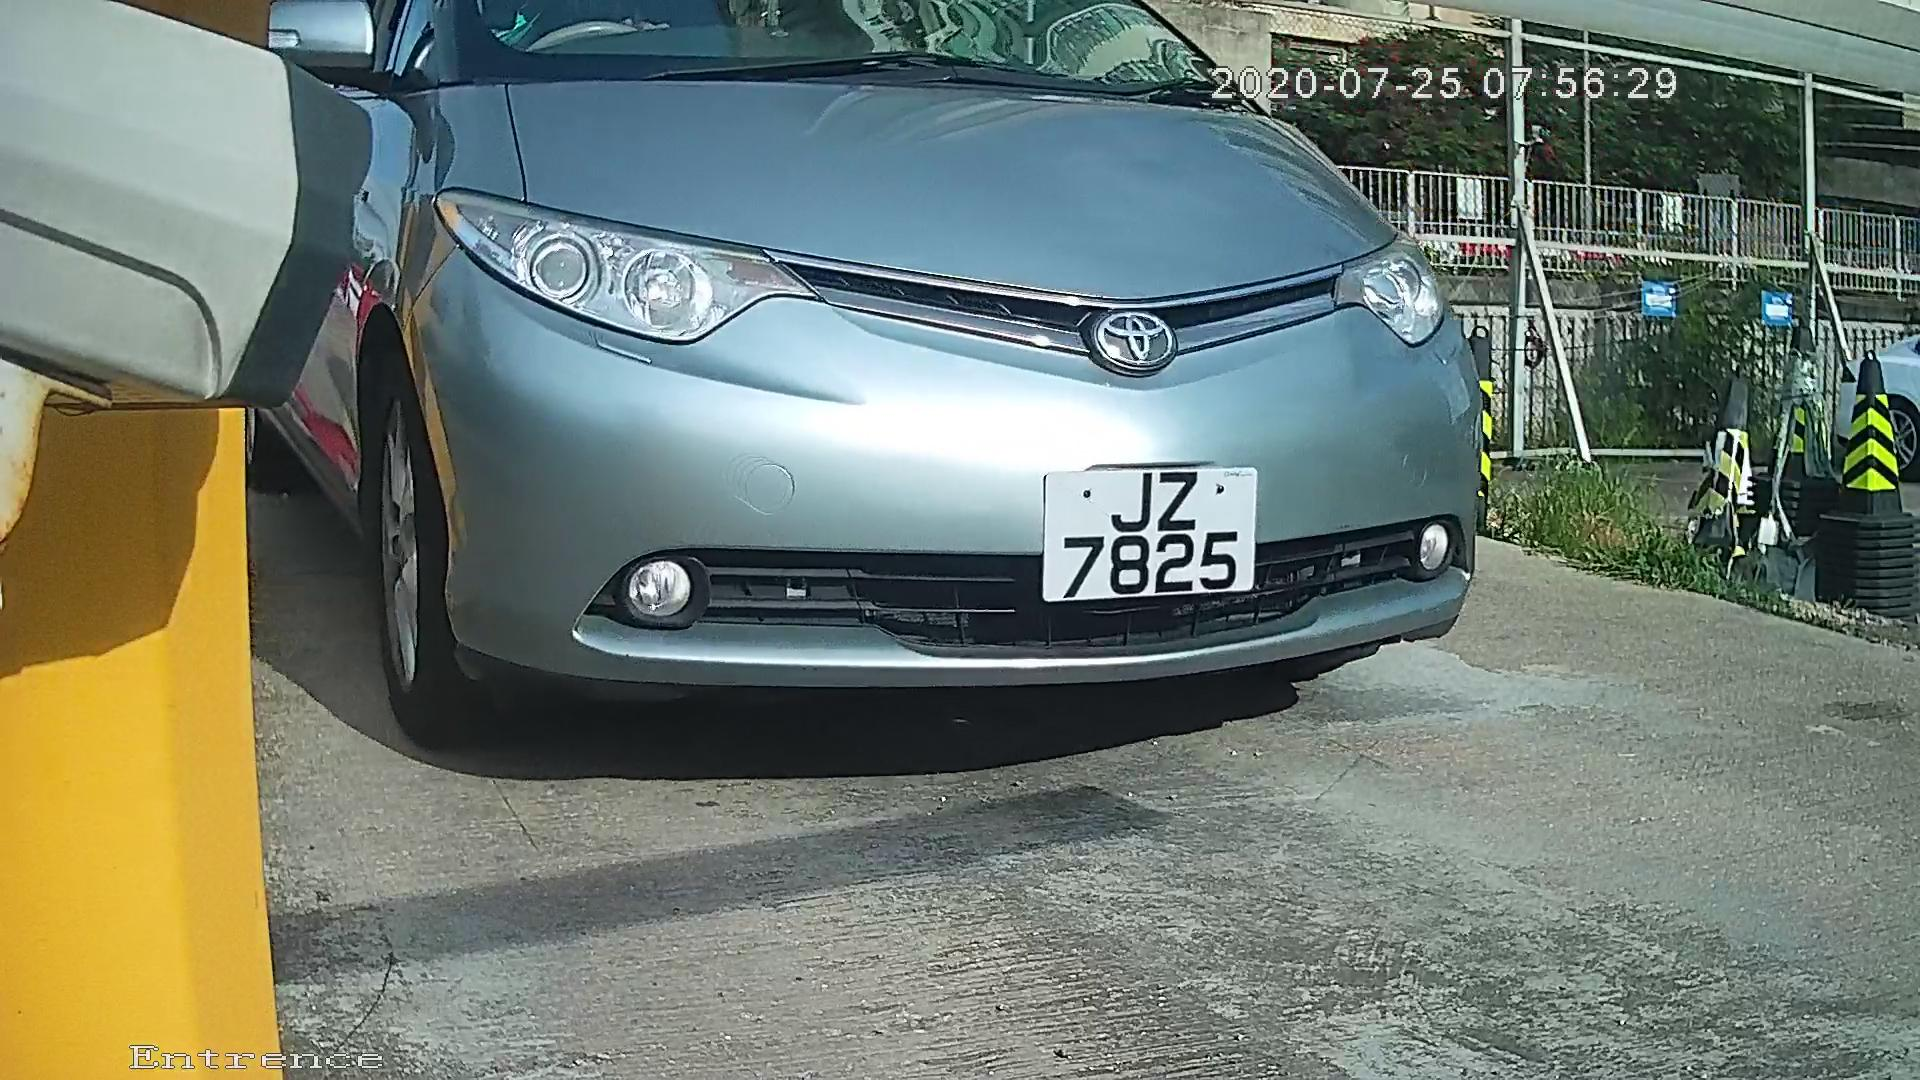Car: (155, 1, 1629, 811)
License Plate: (1029, 454, 1295, 618)
